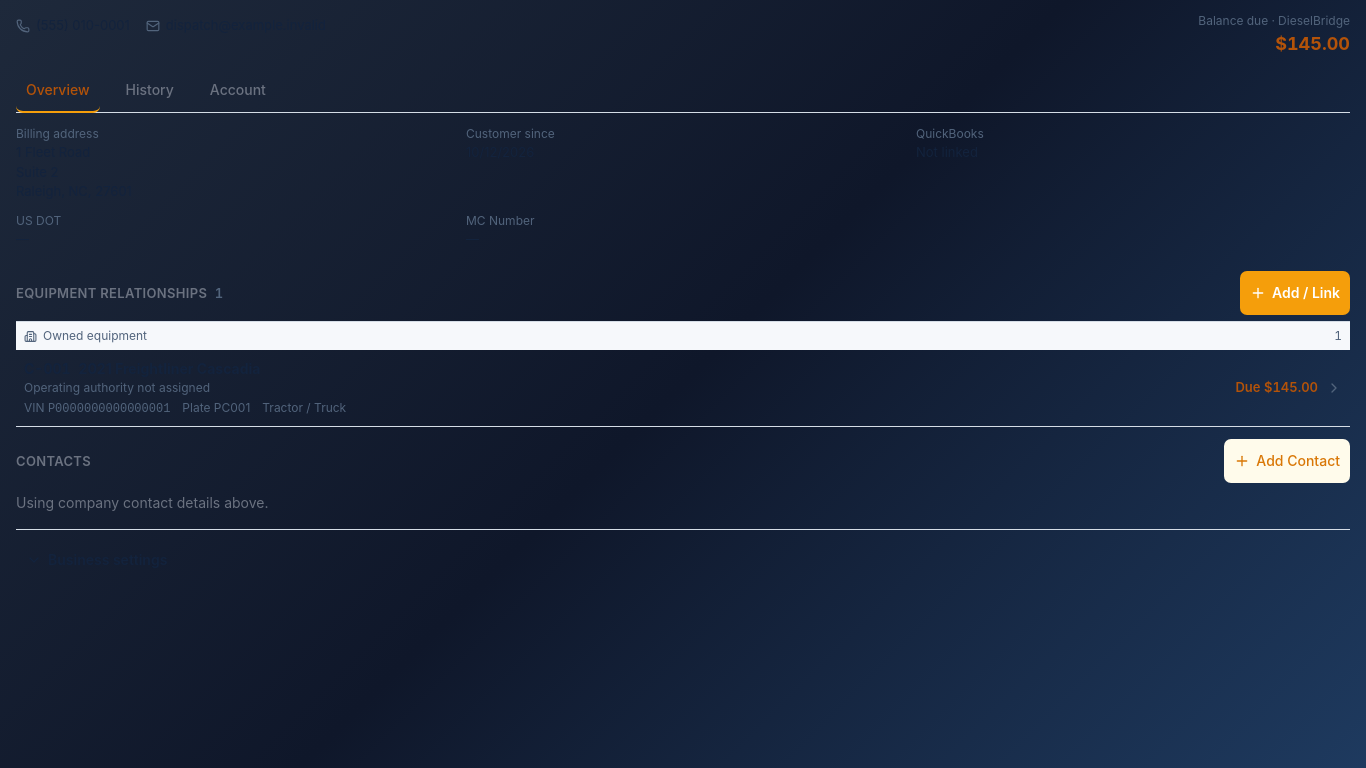
compact customer record › keeps history keyboard expandable without repeating activity tiles
This screenshot has width=1366, height=768.
Click the button "History".
click(150, 91)  # box [116,69,184,113]
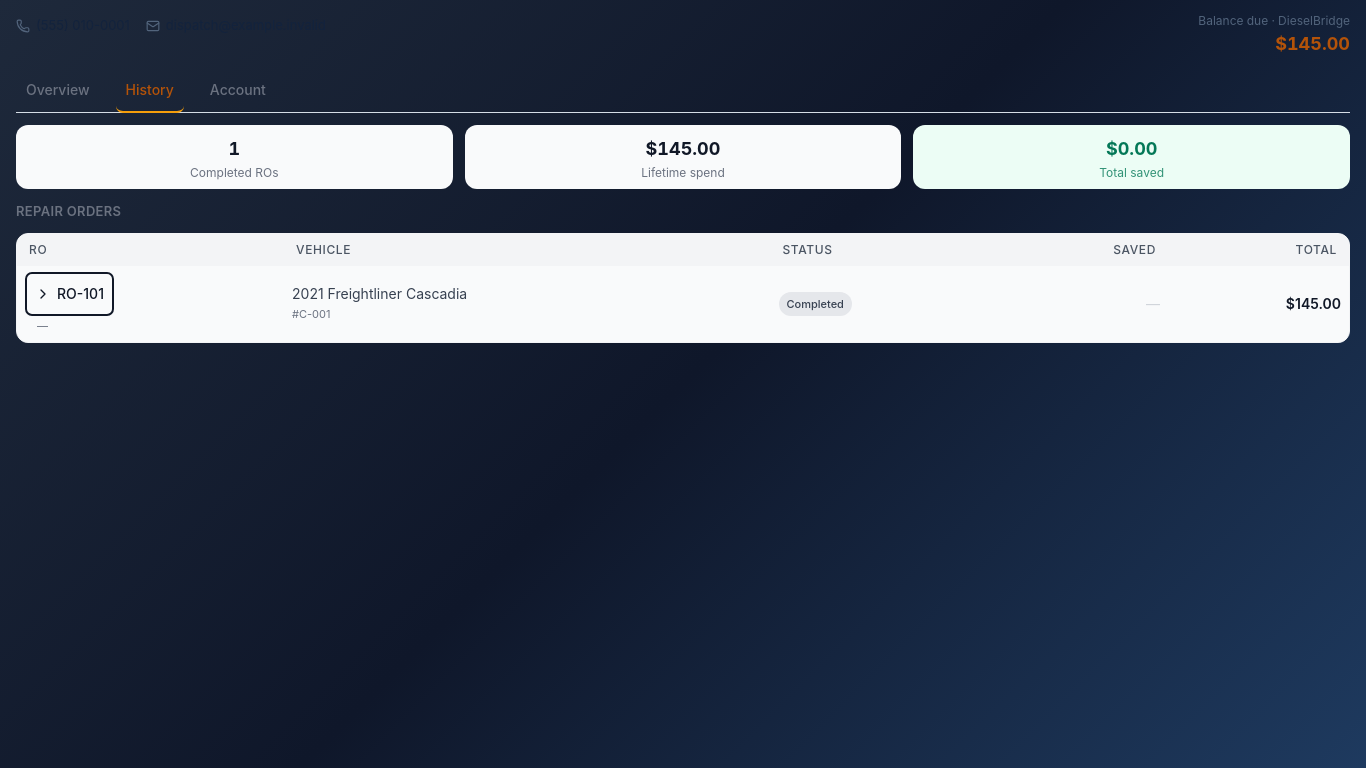
Press Enter
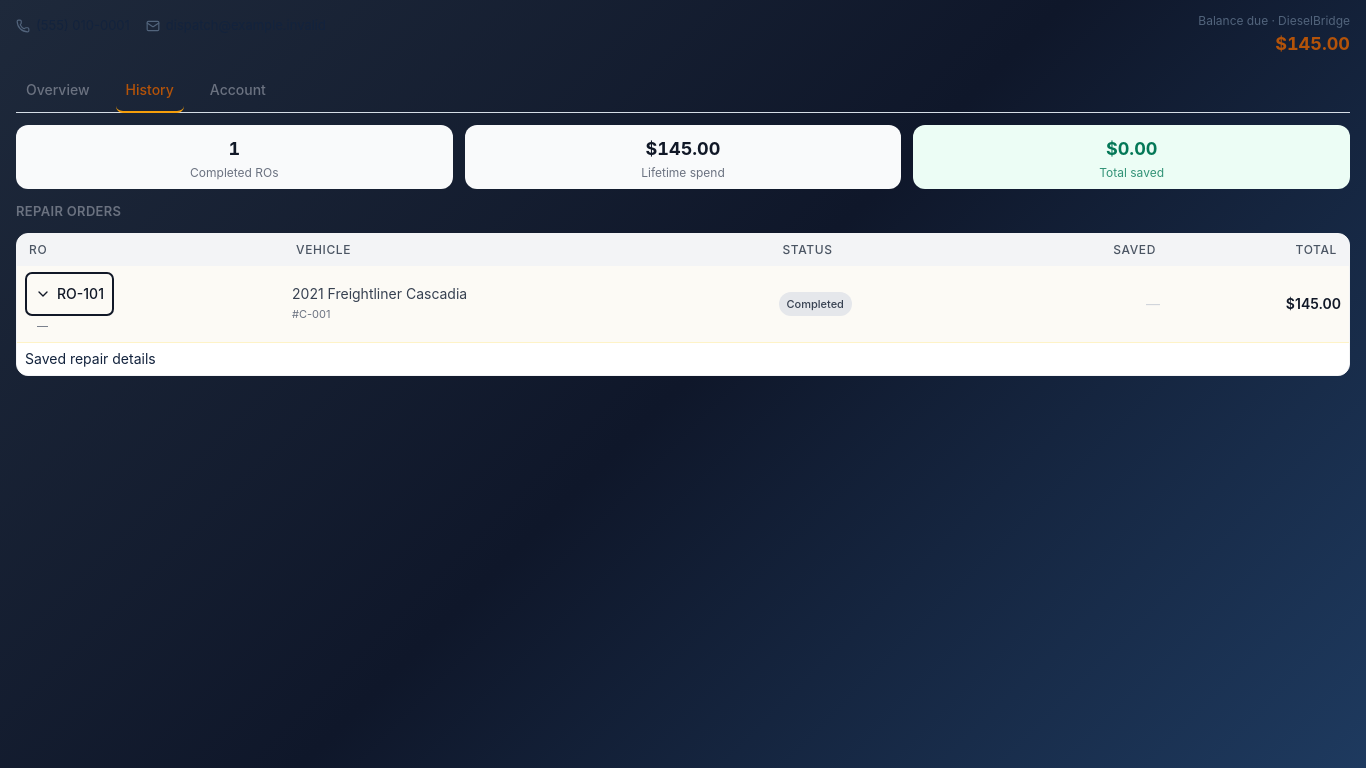
Expected: the text "Saved repair details" is shown, [25,350,156,367]
Expected: the button "RO-101" is expanded, [25,272,114,316]
